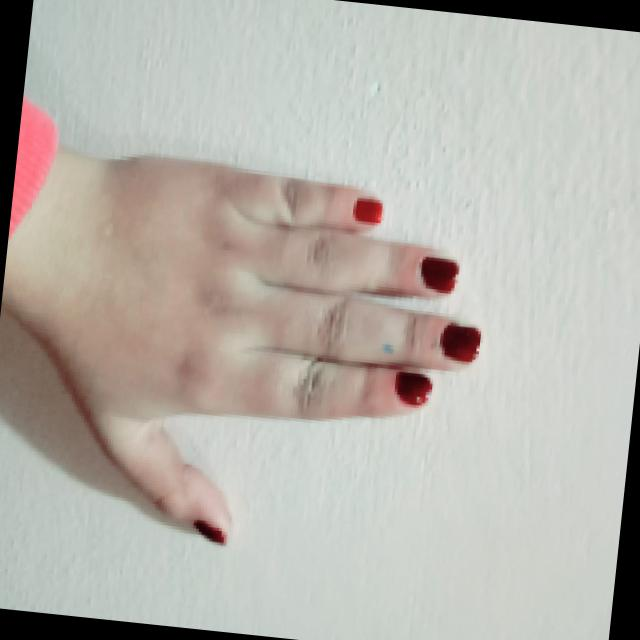Nail: (439, 323, 480, 362), (420, 257, 458, 293), (394, 371, 431, 407), (352, 197, 381, 225), (193, 520, 224, 543)
